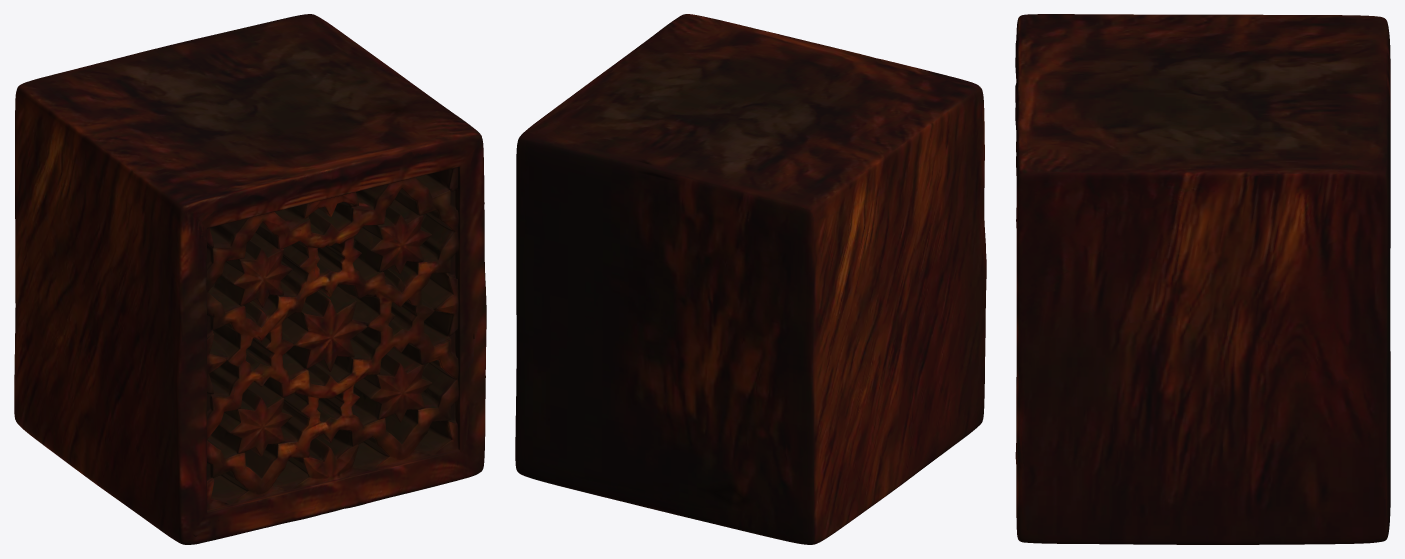
The model's file is wood.glb.
3 views of the same model, side by side, from view 1: azimuth 30°, elevation 25°; view 2: azimuth 150°, elevation 25°; view 3: azimuth 270°, elevation 25° (orthographic). The views are drawn at different scales.
Parts seen in each view (by area): view 1: material; view 2: material; view 3: material.
Part boxes in pixels (x1,y1,x2,y2): material: [14, 14, 486, 544]; material: [515, 14, 986, 544]; material: [1015, 14, 1390, 544].
Size of the model in its own units: 0.7063 by 0.7502 by 0.6792.
Materials: 1 (1 with a texture image).
